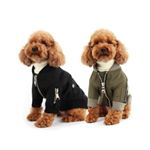puppy: (11, 26, 73, 133), (76, 25, 137, 129)
